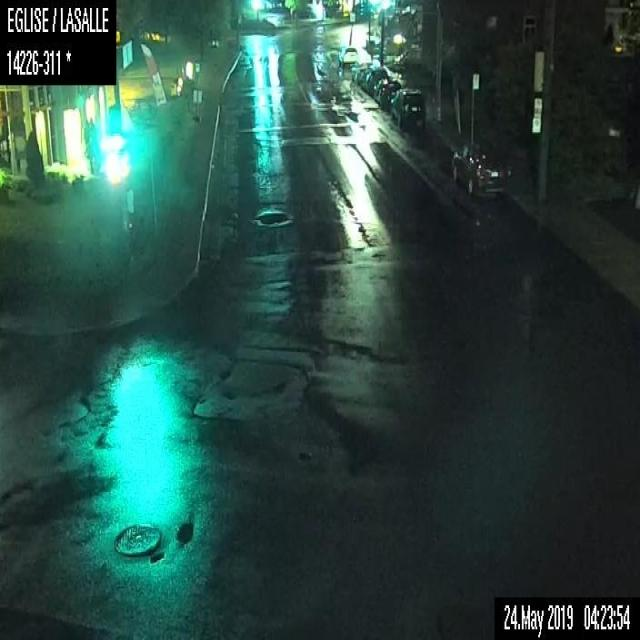vehicle: (450, 147, 504, 192), (391, 88, 426, 126), (373, 76, 400, 110), (338, 45, 359, 64)
